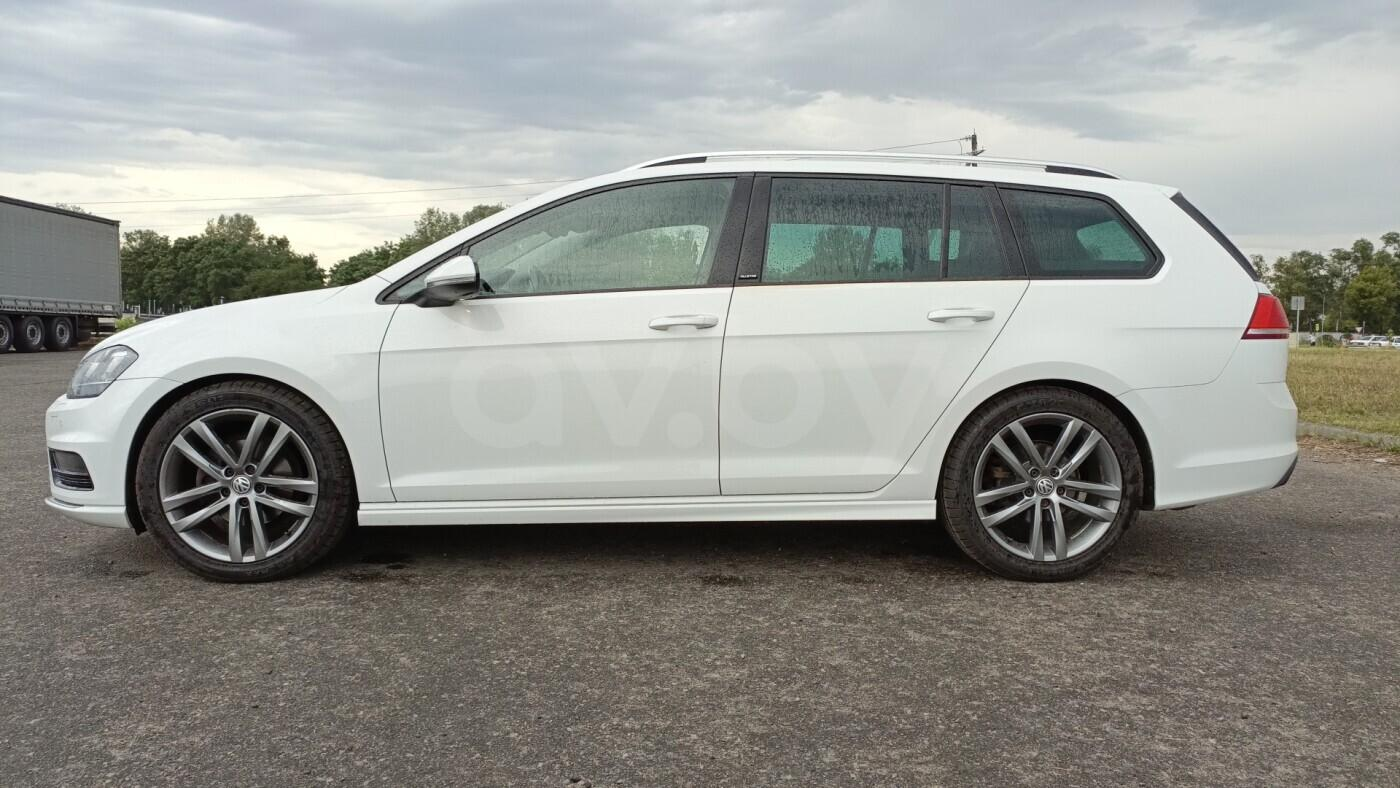Golf_2012-2017: (37, 146, 1311, 584)
